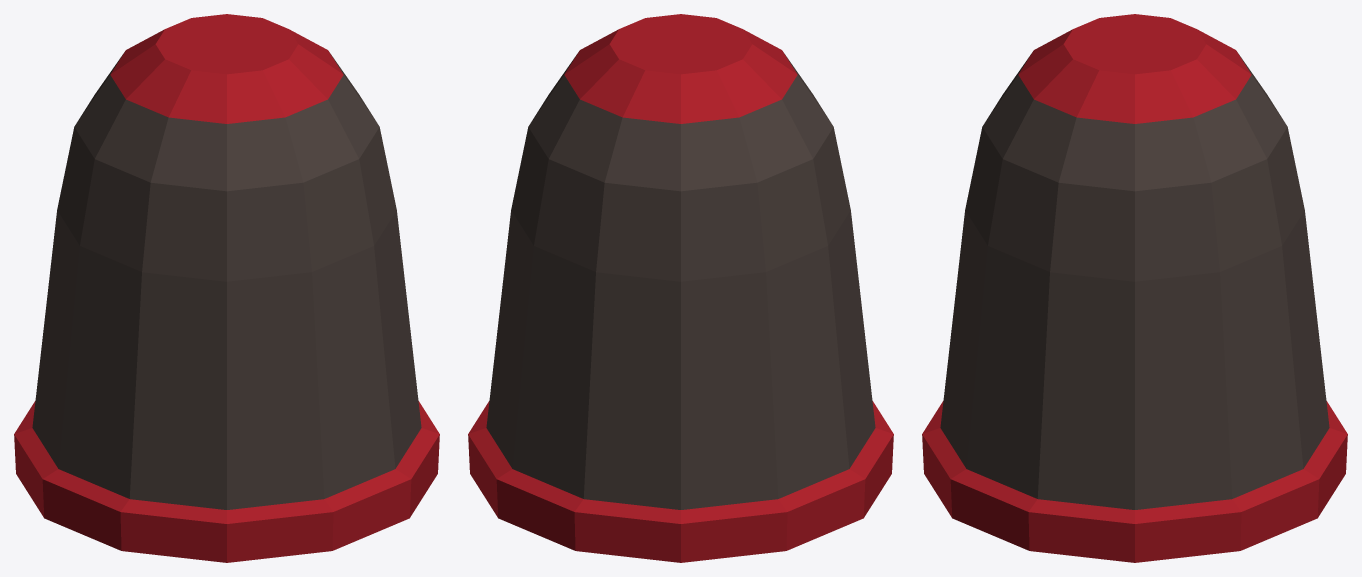
File: 3cup.fbx
3 views of the same model, side by side, from view 1: azimuth 30°, elevation 25°; view 2: azimuth 150°, elevation 25°; view 3: azimuth 270°, elevation 25° (orthographic).
Visible parts, largest first — view 1: Cylinder; view 2: Cylinder; view 3: Cylinder.
Boxes of the visible parts, x1=… form: Cylinder: x1=14, y1=14, x2=439, y2=562; Cylinder: x1=468, y1=14, x2=893, y2=562; Cylinder: x1=922, y1=14, x2=1347, y2=562.
Size of the model in its own units: 24.56 by 27.74 by 24.56.
